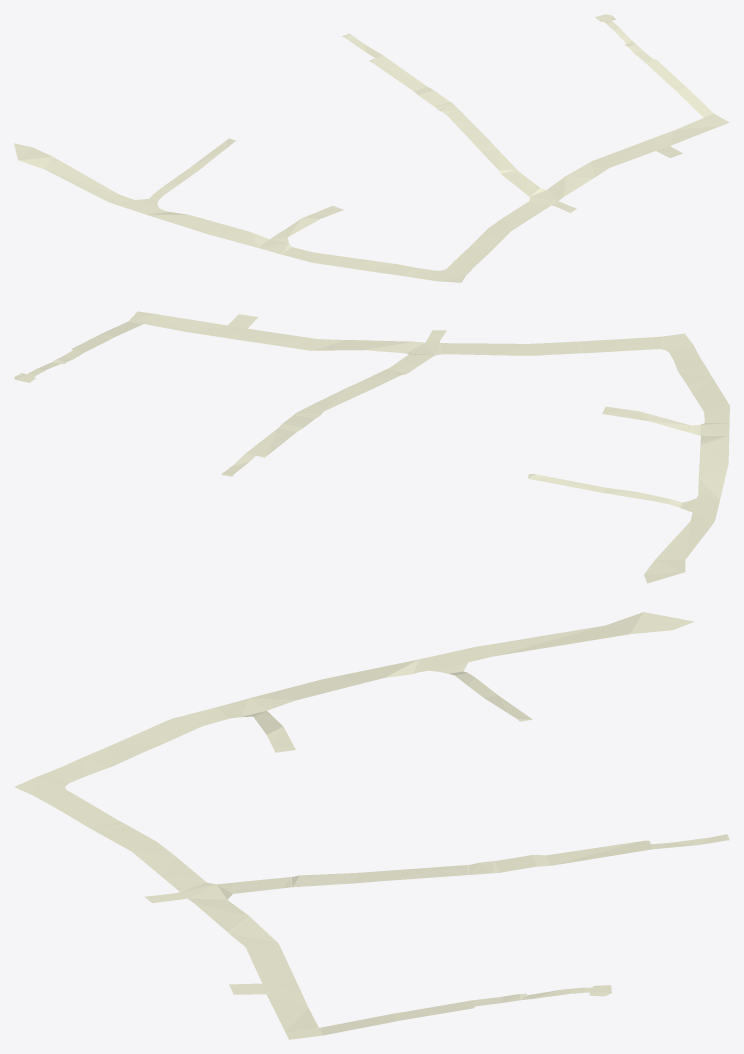
File: data82.glb
3 views of the same model, one above another, from view 1: azimuth 30°, elevation 25°; view 2: azimuth 150°, elevation 25°; view 3: azimuth 270°, elevation 25° (orthographic). The views are drawn at different scales.
Bounding box in the file's own units: 205 × 10.8 × 152.
